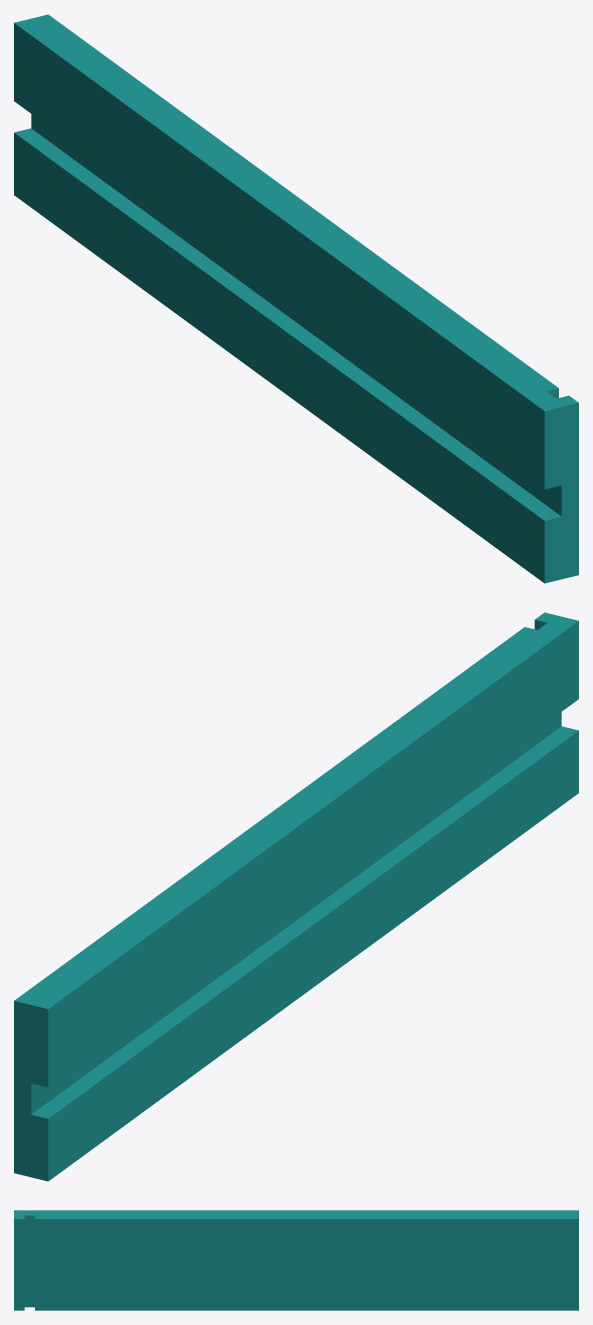
Rendered from original-28.obj.
3 views of the same model, one above another, from view 1: azimuth 30°, elevation 25°; view 2: azimuth 150°, elevation 25°; view 3: azimuth 270°, elevation 25° (orthographic). The views are drawn at different scales.
Visible parts, largest first — view 1: Group27/mesh28/mesh28-geometry#mesh28-geometry; view 2: Group27/mesh28/mesh28-geometry#mesh28-geometry; view 3: Group27/mesh28/mesh28-geometry#mesh28-geometry.
Part boxes in pixels (x1,y1,x2,y2): Group27/mesh28/mesh28-geometry#mesh28-geometry: (14,14,578,583); Group27/mesh28/mesh28-geometry#mesh28-geometry: (14,612,578,1181); Group27/mesh28/mesh28-geometry#mesh28-geometry: (14,1210,578,1310).
Bounding box in the file's own units: 0.0105 × 0.0503 × 0.2808.
